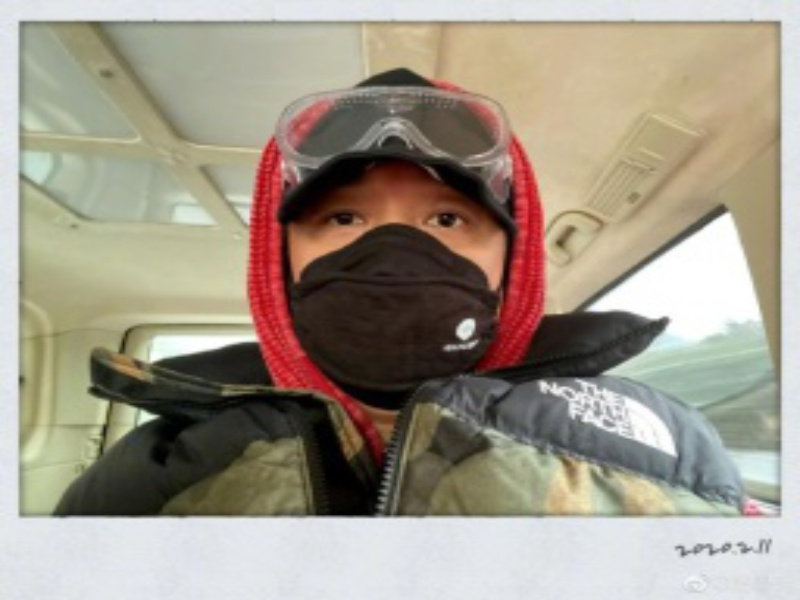ManaoArotava: (241, 43, 555, 394)
